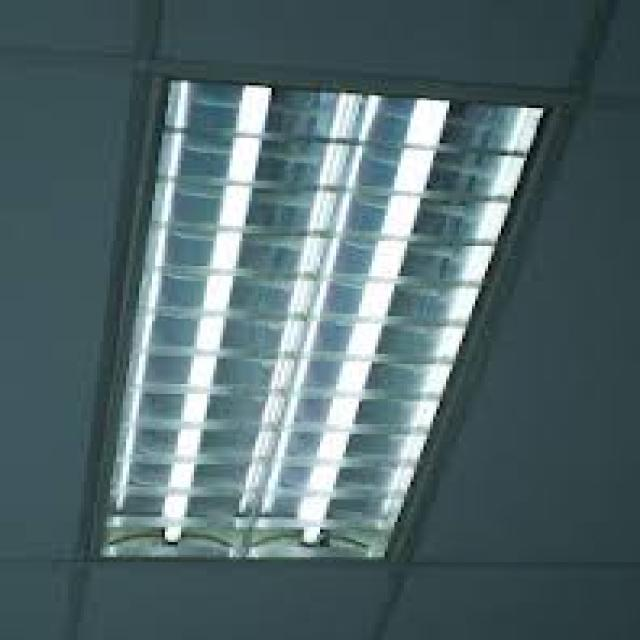light: (101, 74, 546, 557)
